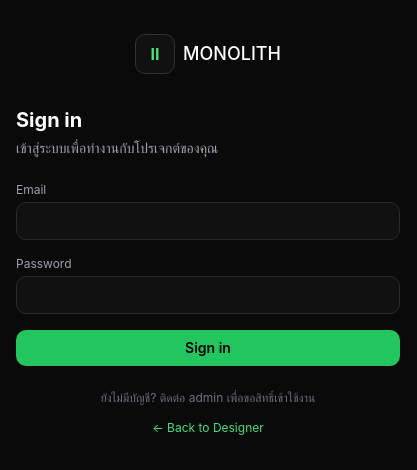
Test: SignIn page (S18 L7 Slice 1) › shows the auth error message when sign-in fails
Type "dev@example.com" into the field labelled "Email".
click(208, 221); type("dev@example.com")  # box [16,202,400,240]
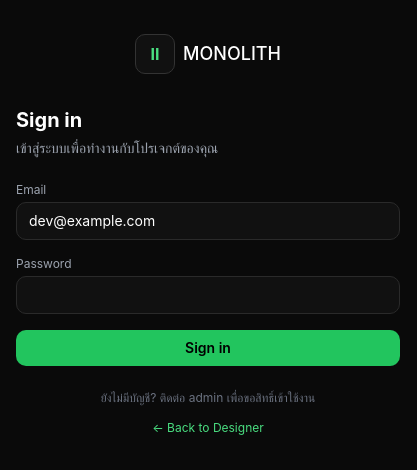
Type "wrong-pass" into the password field labelled "Password".
click(208, 295); type("wrong-pass")  # box [16,276,400,314]
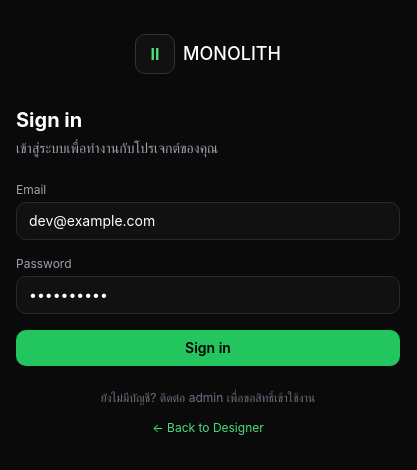
Click the button "Sign in".
click(208, 348)  # box [16,330,400,366]
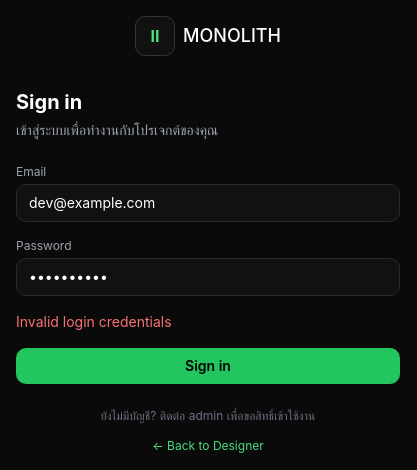
Result: the text "Invalid login credentials" is shown at [16,313,172,330]
